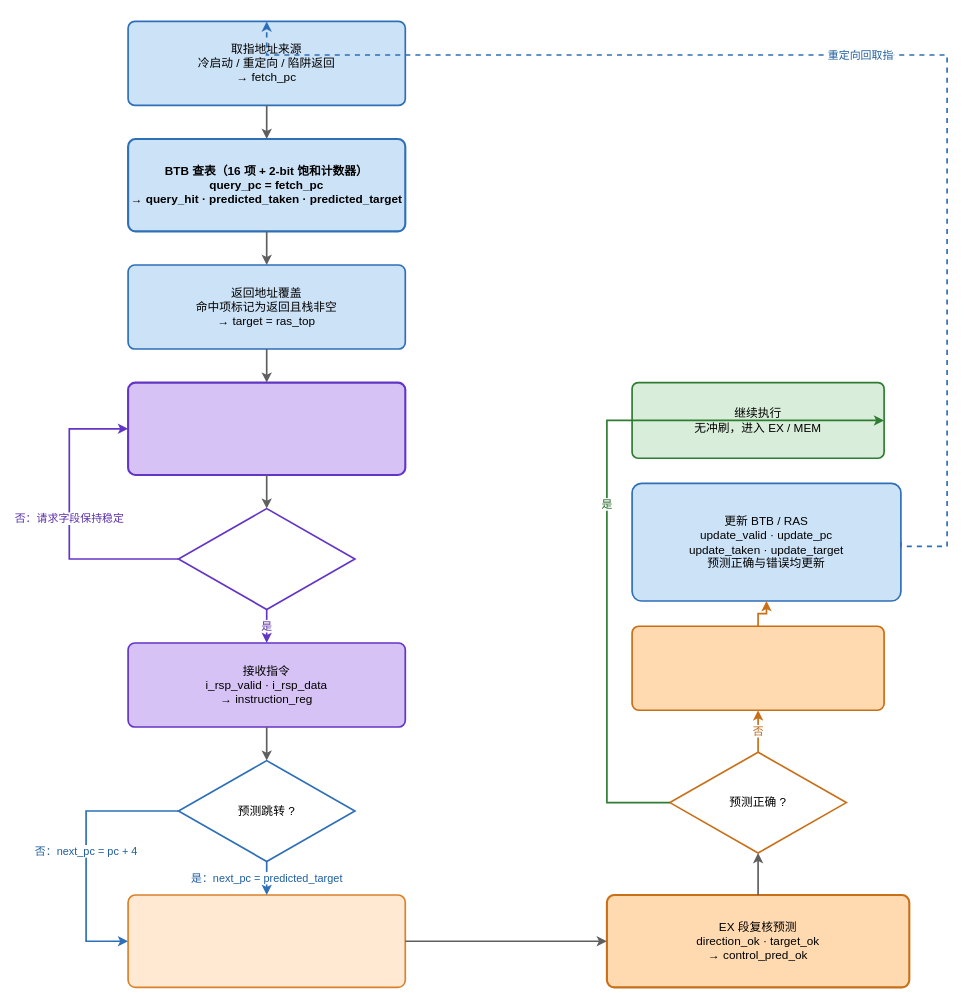
The diagram is 969 pixels wide and 1003 high, and some of its shapes have lost their labels. Each missing label, with the centre of its shape:
"i_req_ready ?" belongs at pixel 266 558.
"写入 IF/ID ifid_pc · ifid_instr ifid_pred_taken · ifid_pred_target" belongs at pixel 266 941.
"冲刷错误路径 flush IF/ID · 重定向到 ex_next_pc" belongs at pixel 758 668.
"发起取指事务 i_req_valid · i_req_addr 被 Redirect 打断则置丢弃标记" belongs at pixel 266 428.
